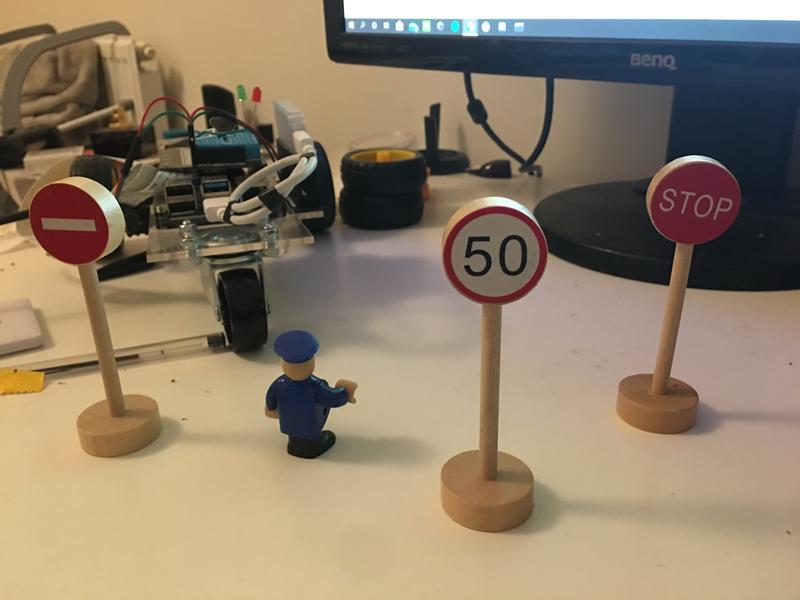Traffic_Sign_50: (442, 209, 546, 303)
Traffic_Sign_No_Entry: (29, 187, 109, 264)
Traffic_Sign_Stop: (649, 159, 740, 245)
person: (261, 329, 359, 462)
